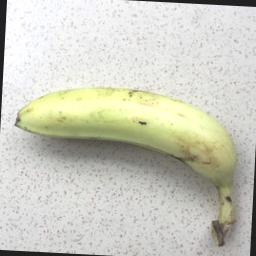Banana Ripe: (0, 68, 256, 229)
